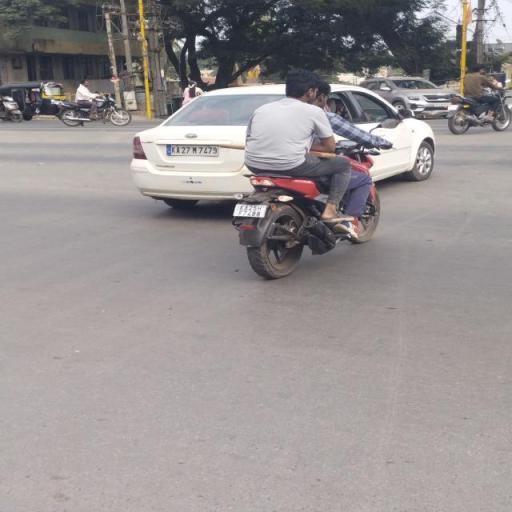bike: (218, 65, 386, 285)
numberplate: (230, 202, 265, 220)
withouthelmet: (288, 70, 320, 100), (316, 83, 331, 108)
